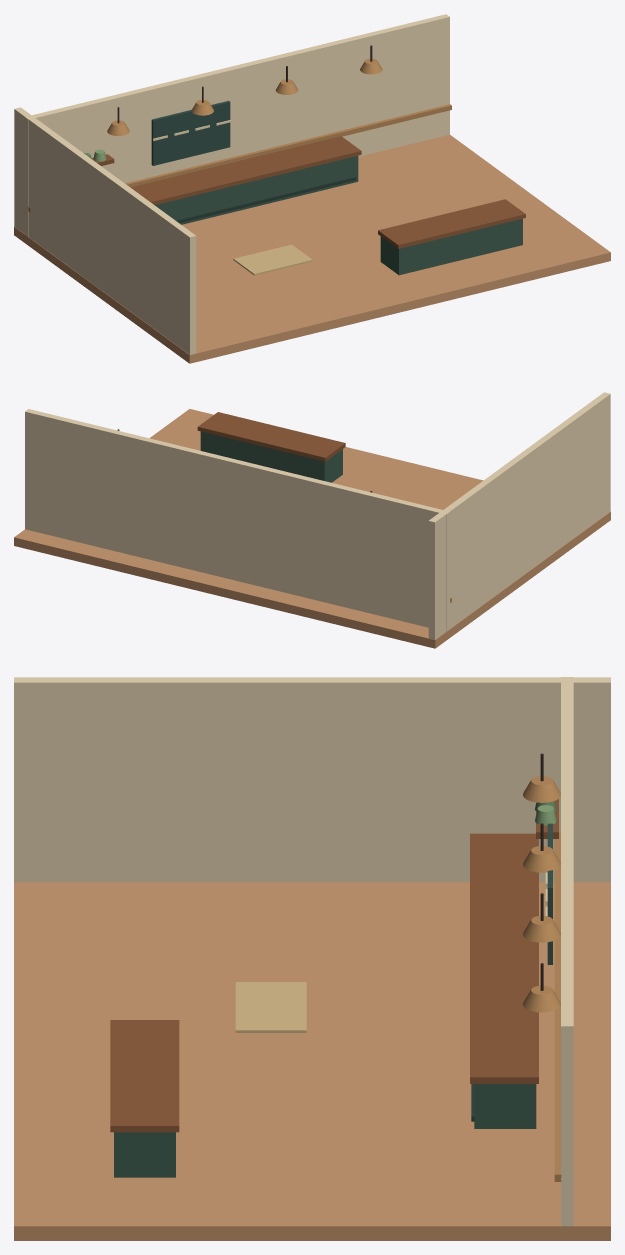
Rendered from cafe-shell.glb.
3 views of the same model, one above another, from view 1: azimuth 30°, elevation 25°; view 2: azimuth 150°, elevation 25°; view 3: azimuth 270°, elevation 25° (orthographic). The views are drawn at different scales.
Parts seen in each view (by area): view 1: ExpandedFloor, BackWall, SideWall, StraightWalnutTop, StraightMainCounter, ServeCounter, MenuBoard, ServeWalnutTop, WallTrim, CafeRug, BackCounterKickboard; view 2: BackWall, SideWall, ExpandedFloor, ServeWalnutTop, ServeCounter; view 3: ExpandedFloor, SideWall, StraightWalnutTop, ServeWalnutTop, BackWall, CafeRug, PendantShade (×4), ServeCounter, StraightMainCounter, WallTrim.
Part boxes in pixels (<box>): ExpandedFloor: <box>14,134,610,363</box>; BackWall: <box>25,14,449,236</box>; SideWall: <box>14,107,196,354</box>; StraightWalnutTop: <box>130,136,361,205</box>; StraightMainCounter: <box>155,155,358,224</box>; ServeCounter: <box>380,218,522,275</box>; MenuBoard: <box>151,100,230,165</box>; ServeWalnutTop: <box>378,199,525,248</box>; WallTrim: <box>28,104,451,212</box>; CafeRug: <box>233,244,312,275</box>; BackCounterKickboard: <box>175,176,356,223</box>; BackWall: <box>25,409,449,631</box>; SideWall: <box>428,392,610,639</box>; ExpandedFloor: <box>14,409,610,648</box>; ServeWalnutTop: <box>197,412,345,461</box>; ServeCounter: <box>200,431,342,482</box>; ExpandedFloor: <box>14,882,610,1240</box>; SideWall: <box>14,677,610,882</box>; StraightWalnutTop: <box>470,833,538,1083</box>; ServeWalnutTop: <box>110,1020,179,1132</box>; BackWall: <box>561,677,573,1226</box>; CafeRug: <box>235,982,306,1032</box>; PendantShade (×4): <box>523,776,560,1012</box>; ServeCounter: <box>114,1132,175,1177</box>; StraightMainCounter: <box>474,1084,536,1128</box>; WallTrim: <box>554,831,561,1181</box>.
Size of the model in its own units: 18 by 5.16 by 13.
